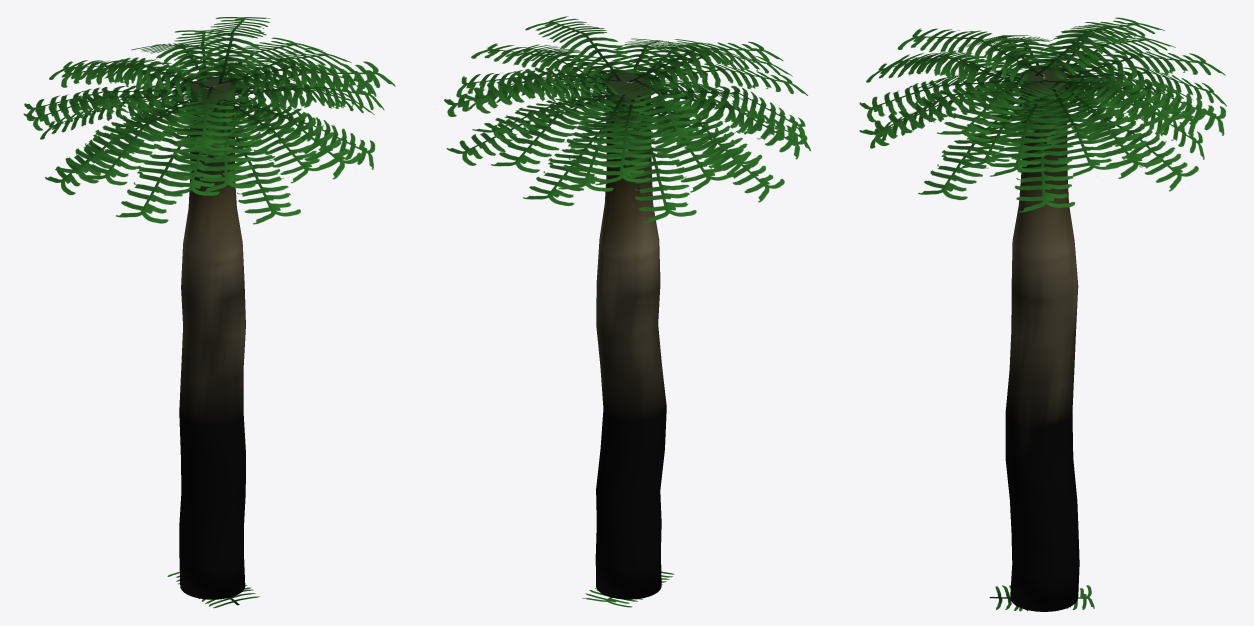
Rendered from palm_trees_v1.glb.
3 views of the same model, side by side, from view 1: azimuth 30°, elevation 25°; view 2: azimuth 150°, elevation 25°; view 3: azimuth 270°, elevation 25° (orthographic). The views are drawn at different scales.
Parts seen in each view (by area): view 1: Trunk, Leaf.023, Leaf.008, Leaf.011, Leaf.027, Leaf.006, Leaf.022, Leaf.025, Leaf.024, Leaf.026, Leaf.010, Leaf.028 (+15 smaller); view 2: Trunk, Leaf.017, Leaf.002, Leaf.016, Leaf.028, Leaf.019, Leaf.026, Leaf.027, Leaf.025, Leaf.018, Leaf.015, Leaf.001 (+14 smaller); view 3: Trunk, Leaf.020, Leaf.028, Leaf.013, Leaf.025, Leaf.004, Leaf.026, Leaf.021, Leaf.027, Leaf.005, Leaf.022, Leaf.003 (+14 smaller).
Boxes of the visible parts, left/top/right/bottom form: Trunk: left=179, top=77, right=245, bottom=599; Leaf.023: left=80, top=100, right=210, bottom=185; Leaf.008: left=116, top=110, right=220, bottom=223; Leaf.011: left=208, top=96, right=330, bottom=183; Leaf.027: left=196, top=17, right=270, bottom=82; Leaf.006: left=209, top=110, right=300, bottom=224; Leaf.022: left=218, top=94, right=362, bottom=179; Leaf.025: left=175, top=86, right=238, bottom=152; Leaf.024: left=193, top=102, right=255, bottom=192; Leaf.026: left=61, top=57, right=214, bottom=100; Leaf.010: left=55, top=95, right=202, bottom=183; Leaf.028: left=218, top=60, right=376, bottom=97; Trunk: left=595, top=73, right=666, bottom=599; Leaf.017: left=594, top=99, right=657, bottom=184; Leaf.002: left=614, top=106, right=696, bottom=222; Leaf.016: left=558, top=94, right=646, bottom=191; Leaf.028: left=525, top=16, right=640, bottom=84; Leaf.019: left=491, top=93, right=621, bottom=172; Leaf.026: left=614, top=79, right=708, bottom=146; Leaf.027: left=459, top=67, right=618, bottom=113; Leaf.025: left=626, top=41, right=783, bottom=92; Leaf.018: left=624, top=99, right=762, bottom=177; Leaf.015: left=619, top=95, right=734, bottom=192; Leaf.001: left=523, top=105, right=634, bottom=205; Trunk: left=1005, top=68, right=1079, bottom=611; Leaf.020: left=1042, top=86, right=1163, bottom=178; Leaf.028: left=937, top=79, right=1063, bottom=141; Leaf.013: left=1028, top=89, right=1120, bottom=177; Leaf.025: left=897, top=28, right=1050, bottom=85; Leaf.004: left=1011, top=100, right=1074, bottom=212; Leaf.026: left=1023, top=17, right=1164, bottom=79; Leaf.021: left=990, top=98, right=1061, bottom=176; Leaf.027: left=1037, top=77, right=1186, bottom=133; Leaf.005: left=918, top=96, right=1031, bottom=199; Leaf.022: left=859, top=86, right=1033, bottom=145; Leaf.003: left=1052, top=94, right=1198, bottom=191.
Size of the model in its own units: 5.99 by 8.76 by 5.72.
30 materials, 30 textured.
